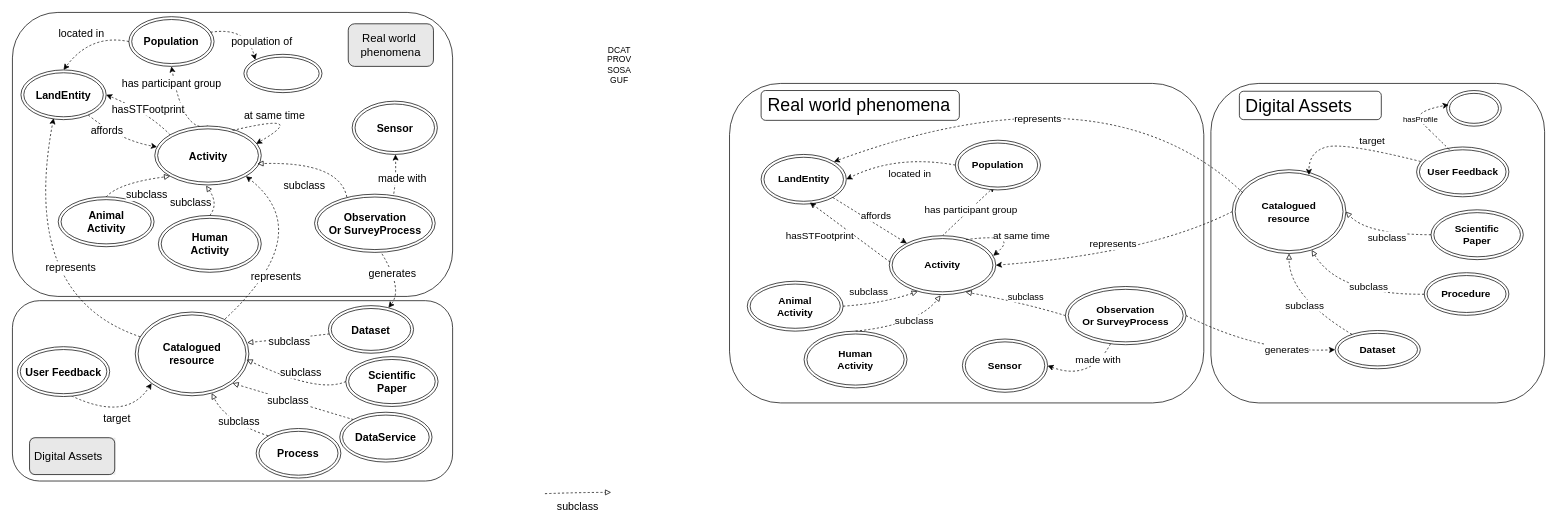
The diagram is 1557 pixels wide and 525 high, and some of its shapes have lost their labels. Each missing label, with the centre of its shape:
"Profilage" belongs at point (1473, 108).
"Species" belongs at point (282, 73).
